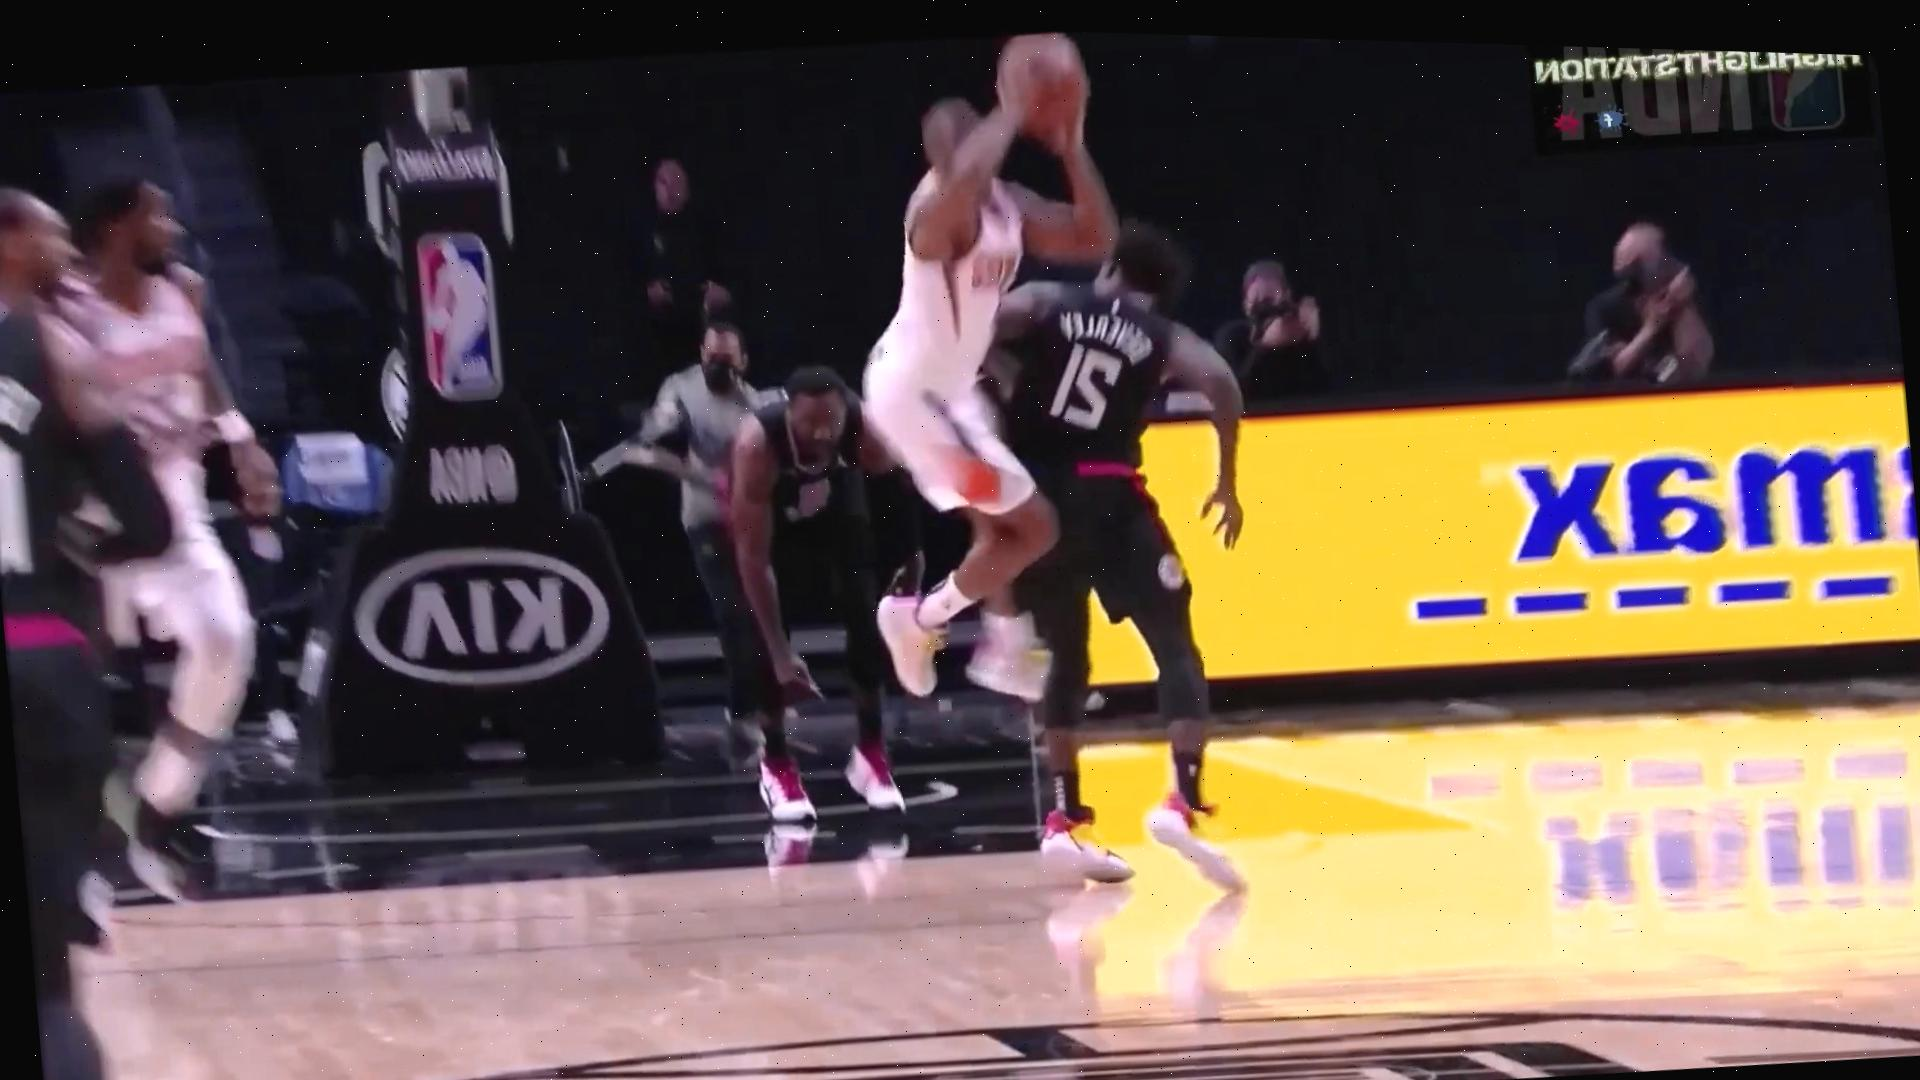foul: (782, 49, 1284, 918)
